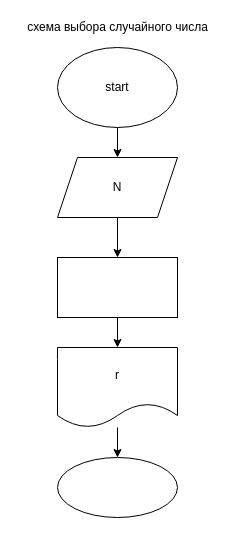
Some shapes in this 234 by 535 pixel diagram are drawn without their labels. The shapes that lost their labels are listed below. From the top down, each one's centre as x and y in pixels, then its label:
At [117,287]: "r = random (1, N)".
At [117,487]: "end".
